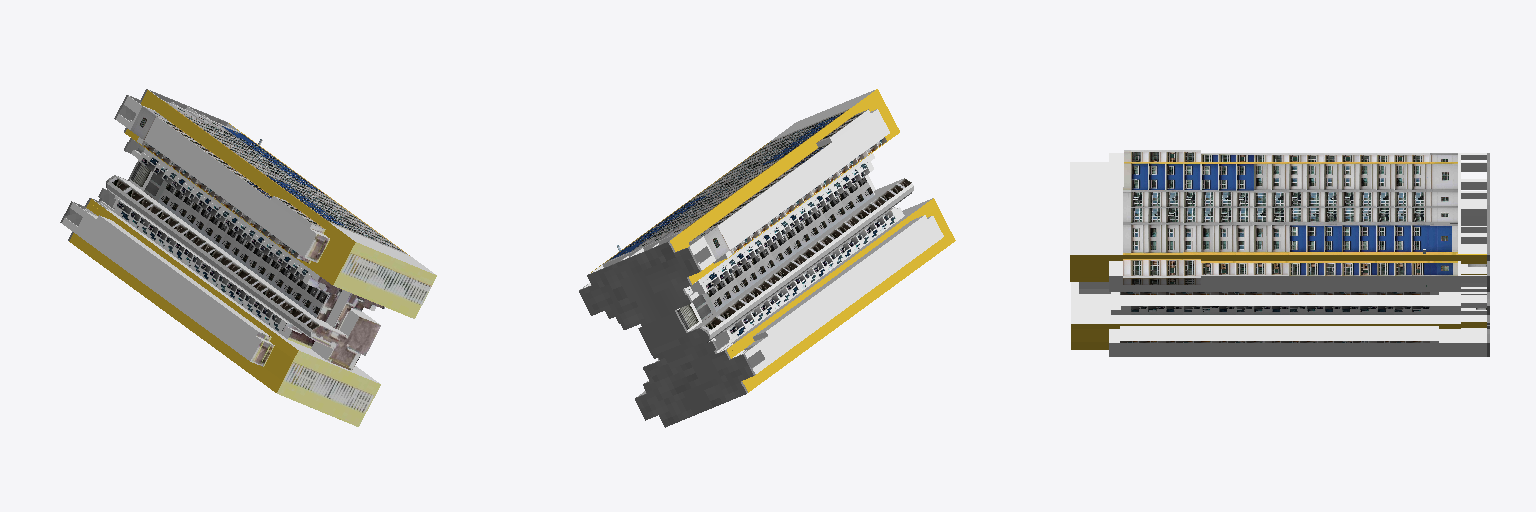
3 views of the same model, side by side, from view 1: azimuth 30°, elevation 25°; view 2: azimuth 150°, elevation 25°; view 3: azimuth 270°, elevation 25° (orthographic).
Parts seen in each view (by area): view 1: polygon.769; view 2: polygon.769; view 3: polygon.769.
Boxes of the visible parts, x1,y1,x2,y2 form: polygon.769: [60, 89, 436, 426]; polygon.769: [579, 89, 955, 427]; polygon.769: [1070, 150, 1489, 356].
Size of the model in its own units: 35.23 by 35.03 by 70.25.
Materials: 1 (1 with a texture image).